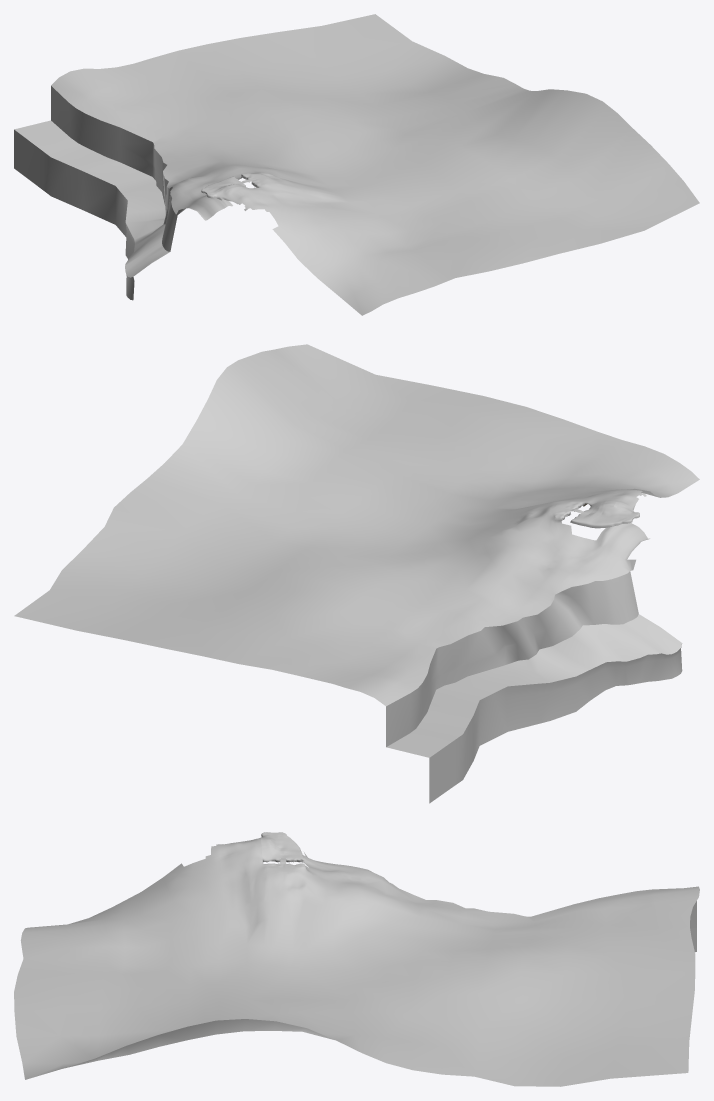
Rendered from SM_Terrain.FBX.
The picture shows the model from 3 angles, top to bottom: view 1: azimuth 30°, elevation 25°; view 2: azimuth 150°, elevation 25°; view 3: azimuth 270°, elevation 25°; orthographic projection. The views are drawn at different scales.
Parts seen in each view (by area): view 1: SM_Terrain; view 2: SM_Terrain; view 3: SM_Terrain.
Part boxes in pixels (x1=…): SM_Terrain: x1=14, y1=14, x2=699, y2=315; SM_Terrain: x1=14, y1=344, x2=699, y2=803; SM_Terrain: x1=14, y1=832, x2=699, y2=1086.
Size of what is drawn, in the model's own units: 56229 by 65153 by 16638.
